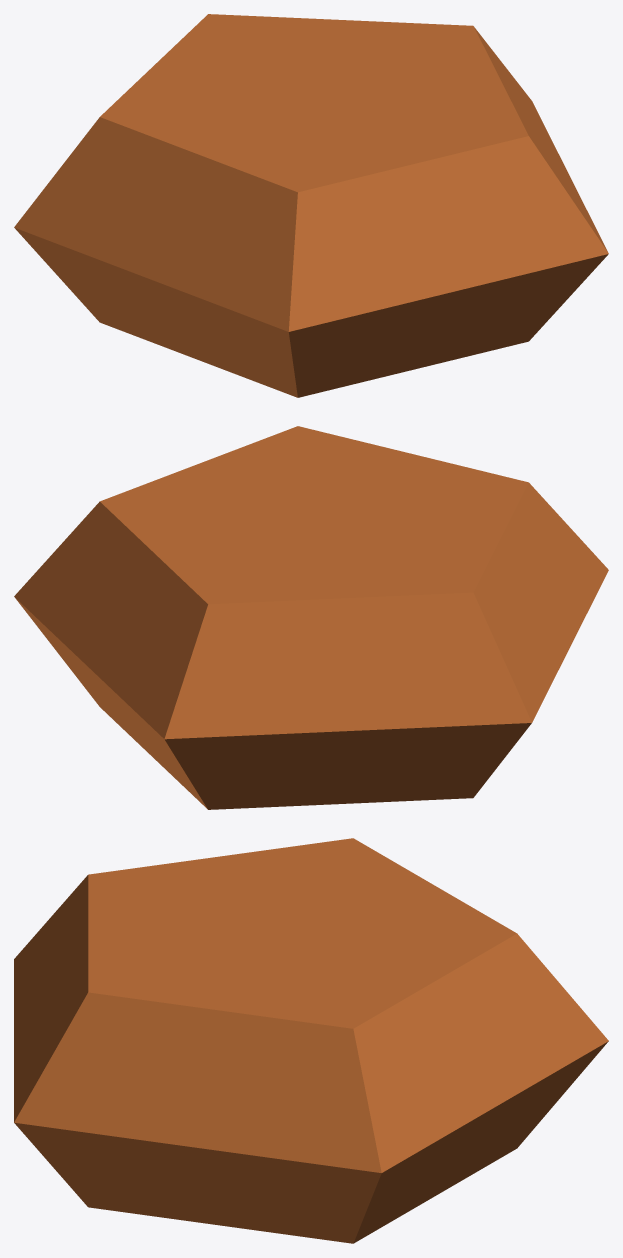
File: boost-pickup.fbx
3 renders of one model, top to bottom at view 1: azimuth 30°, elevation 25°; view 2: azimuth 150°, elevation 25°; view 3: azimuth 270°, elevation 25°, orthographic. The views are drawn at different scales.
Visible parts, largest first — view 1: Circle; view 2: Circle; view 3: Circle.
Boxes of the visible parts, box(x1,y1,x2,y2) form: Circle: box(14, 14, 608, 397); Circle: box(14, 426, 608, 809); Circle: box(14, 838, 608, 1243).
Bounding box in the file's own units: 264 × 100 × 251.
1 material, 1 textured.
